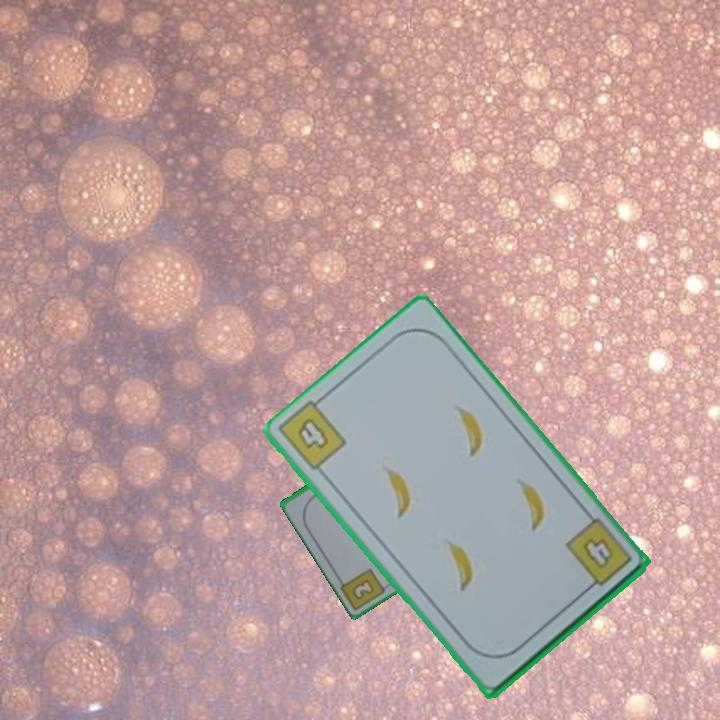2b: (349, 575, 377, 602)
4b: (561, 514, 635, 596), (293, 413, 332, 452)
